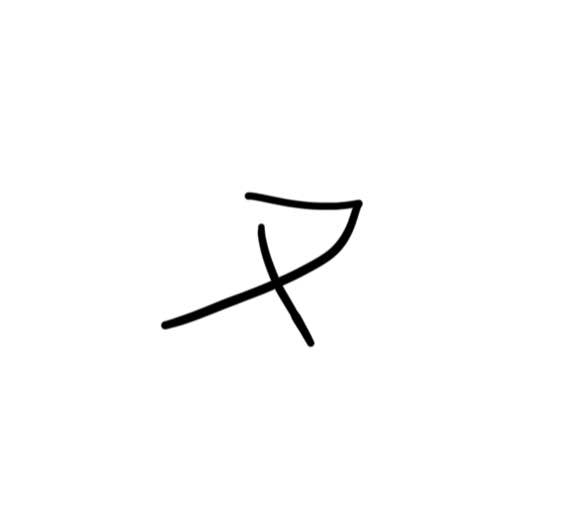nu: (147, 186, 373, 352)
